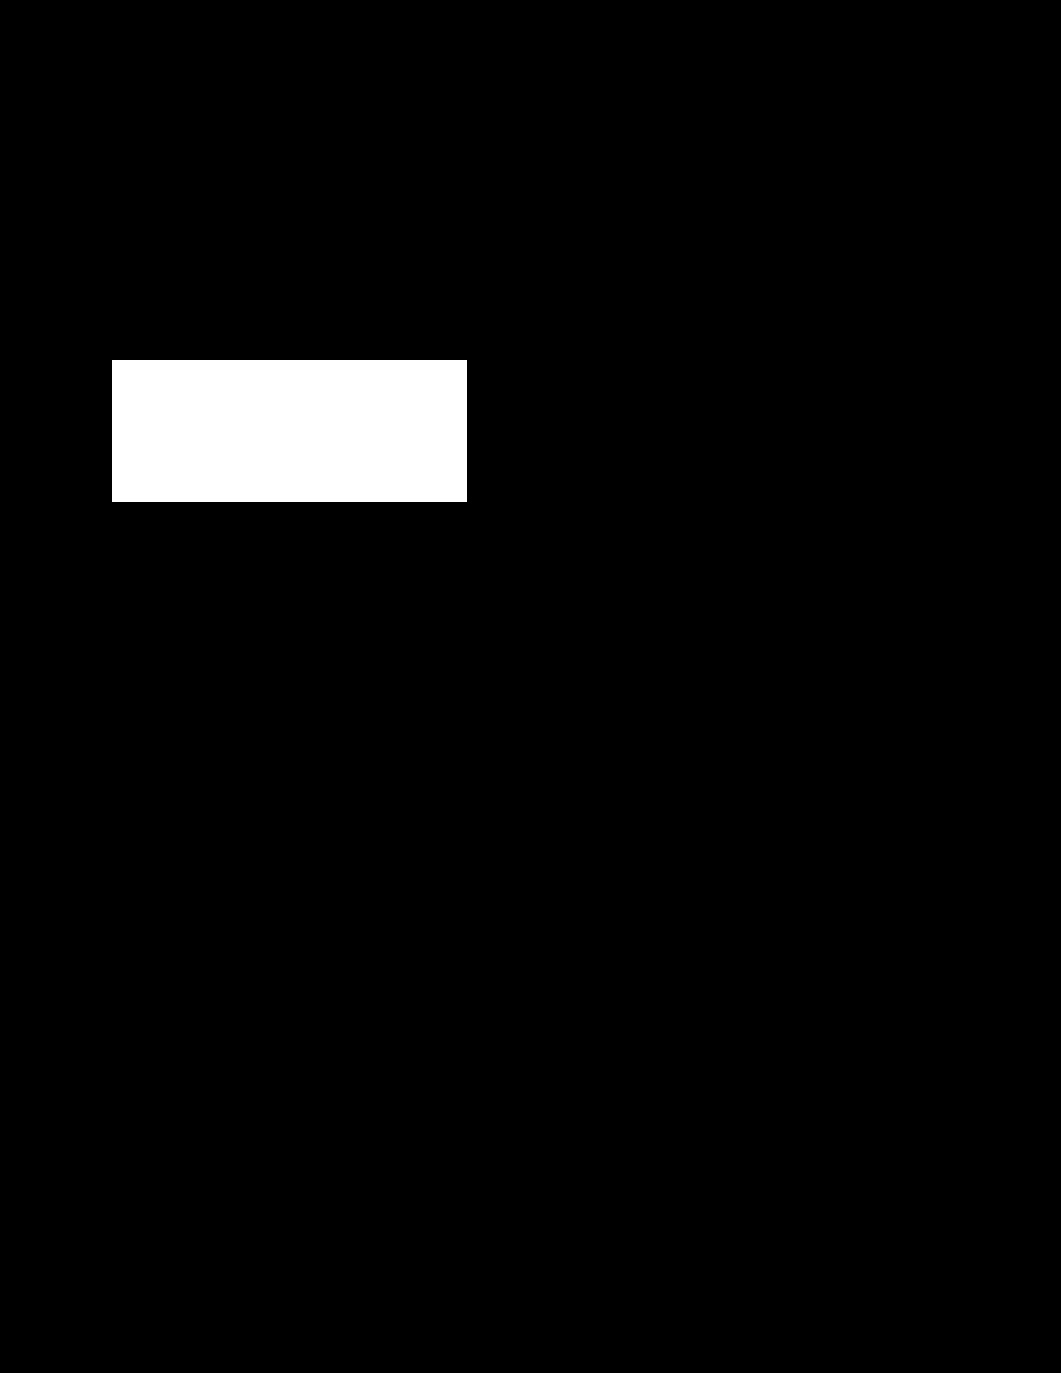table: (111, 360, 466, 502)
